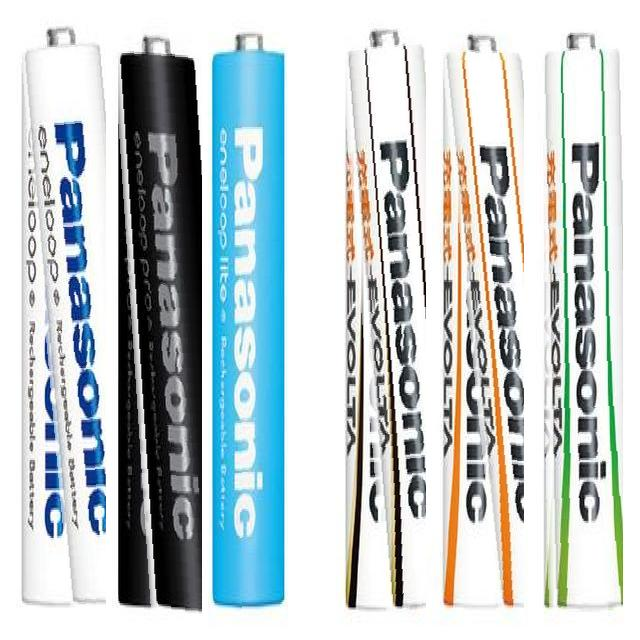battery: (112, 26, 202, 614), (338, 24, 426, 614), (18, 22, 106, 611), (438, 25, 524, 620), (536, 26, 623, 612), (208, 30, 293, 616)
